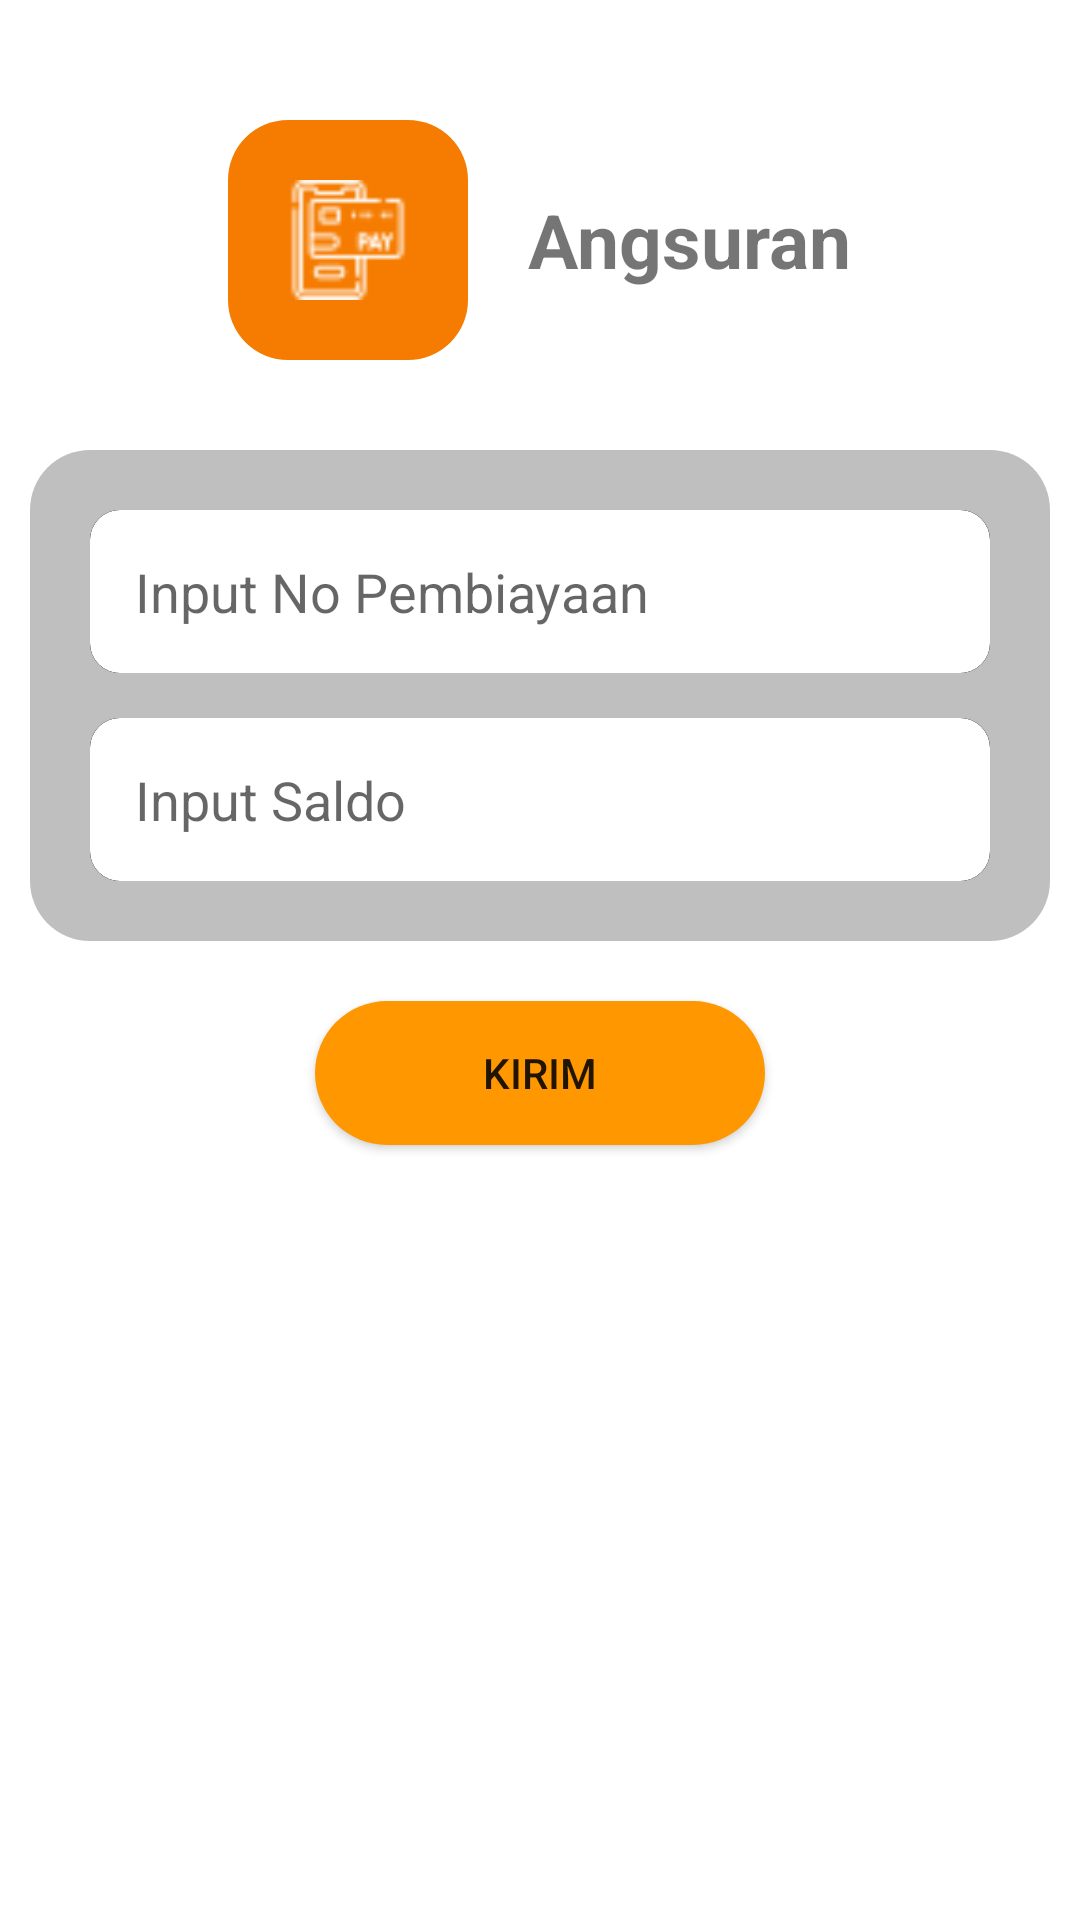

Icons on this 1080w x 1920h Android screen, each with its box as [x1, y1, x2, y2]:
payment: [228, 120, 468, 360]
